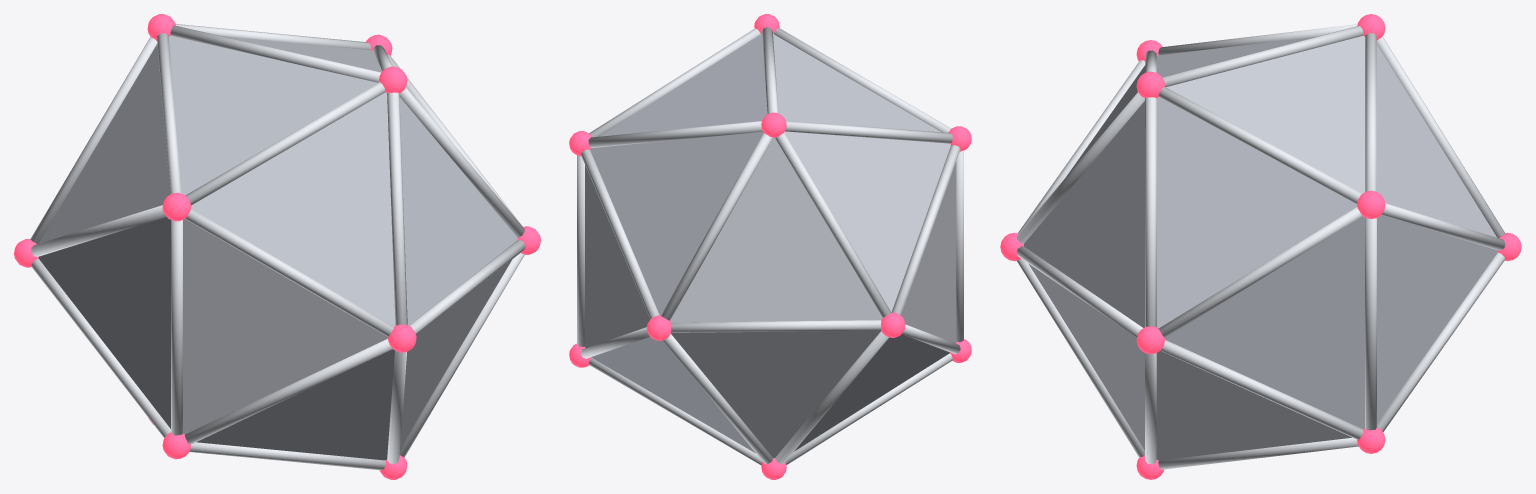
Rendered from prism.glb.
3 renders of one model, left to right at view 1: azimuth 30°, elevation 25°; view 2: azimuth 150°, elevation 25°; view 3: azimuth 270°, elevation 25°, orthographic. The views are drawn at different scales.
Parts seen in each view (by area): view 1: Shell, Edge29, Edge28, Edge23, Edge27, Edge22, Edge14, Edge19, Edge8, Edge24, Edge21, Edge20 (+10 smaller); view 2: Shell, Edge7, Edge8, Edge5, Edge4, Edge9, Edge17, Edge16, Edge6, Edge23, Edge0, Edge18 (+10 smaller); view 3: Shell, Edge18, Edge11, Edge24, Edge10, Edge3, Edge19, Edge1, Edge7, Edge29, Edge25, Edge13 (+10 smaller).
Boxes of the visible parts, x1,y1,x2,y2 form: Shell: (38,35,517,460); Edge29: (387,92,407,325); Edge28: (185,208,393,336); Edge23: (185,82,385,205); Edge27: (185,338,392,444); Edge22: (171,220,182,435); Edge14: (31,258,170,437); Edge19: (170,25,381,82); Edge8: (30,36,157,243); Edge24: (399,87,524,237); Edge21: (189,442,385,470); Edge20: (399,253,524,457); Shell: (585,34,956,457); Edge7: (660,133,772,320); Edge8: (775,132,891,318); Edge5: (671,320,881,332); Edge4: (581,149,659,319); Edge9: (588,121,762,147); Edge17: (891,145,960,315); Edge16: (785,121,952,143); Edge6: (775,331,888,464); Edge23: (774,28,951,132); Edge0: (663,334,773,464); Edge18: (589,28,760,137); Shell: (1024,36,1497,460); Edge18: (1158,86,1362,203); Edge11: (1158,207,1363,338); Edge24: (1145,97,1156,326); Edge10: (1160,340,1363,439); Edge3: (1365,218,1376,430); Edge19: (1162,26,1363,86); Edge1: (1377,252,1505,431); Edge7: (1376,36,1504,238); Edge29: (1016,92,1144,243); Edge25: (1017,258,1144,457); Edge13: (1158,437,1358,469).
Size of the model in its own units: 0.6898 by 0.6581 by 0.7663.
